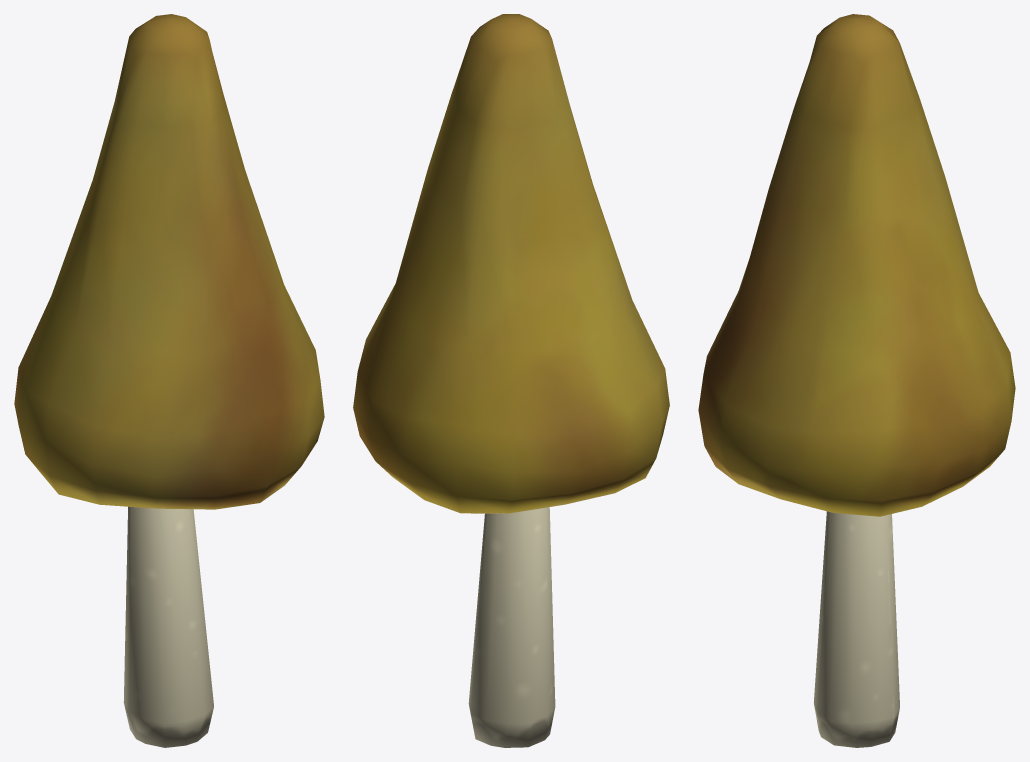
The model's file is Mushroom_17.fbx.
The picture shows the model from 3 angles, left to right: view 1: azimuth 30°, elevation 25°; view 2: azimuth 150°, elevation 25°; view 3: azimuth 270°, elevation 25°; orthographic projection.
Parts seen in each view (by area): view 1: Mushroom_17; view 2: Mushroom_17; view 3: Mushroom_17.
Boxes of the visible parts, x1,y1,x2,y2 form: Mushroom_17: (14, 14, 324, 747); Mushroom_17: (353, 14, 669, 747); Mushroom_17: (698, 14, 1015, 747).
Bounding box in the file's own units: 13.11 × 32.51 × 13.11.
1 material, 1 textured.
